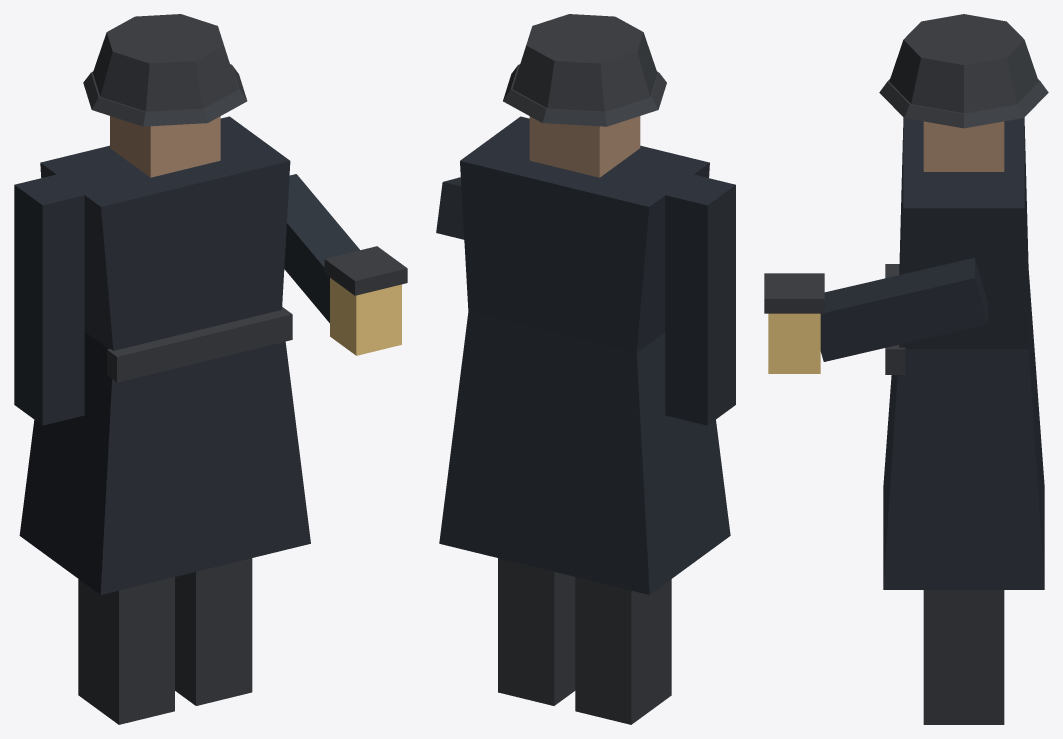
File: wacht.glb
The picture shows the model from 3 angles, left to right: view 1: azimuth 30°, elevation 25°; view 2: azimuth 150°, elevation 25°; view 3: azimuth 270°, elevation 25°; orthographic projection.
Visible parts, largest first — view 1: Wacht; view 2: Wacht; view 3: Wacht.
Part boxes in pixels (box(x1,y1,x2,y2)): Wacht: box(14, 14, 407, 724); Wacht: box(436, 14, 735, 724); Wacht: box(764, 14, 1048, 724).
Size of the model in its own units: 0.795 by 1.79 by 0.705.
